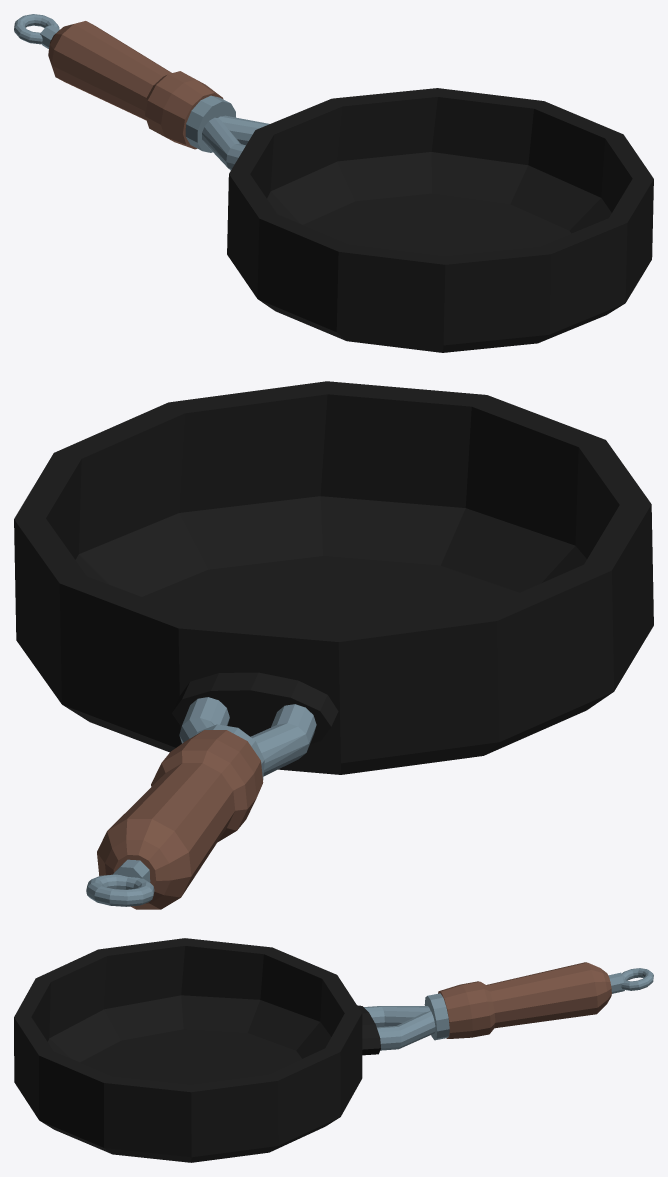
The model's file is panela.glb.
3 renders of one model, top to bottom at view 1: azimuth 30°, elevation 25°; view 2: azimuth 150°, elevation 25°; view 3: azimuth 270°, elevation 25°, orthographic. The views are drawn at different scales.
Visible parts, largest first — view 1: group1161334798; view 2: group1161334798; view 3: group1161334798.
Boxes of the visible parts, bbox=[...] form: group1161334798: bbox=[14, 14, 653, 352]; group1161334798: bbox=[14, 381, 653, 909]; group1161334798: bbox=[14, 938, 653, 1162].
Bounding box in the file's own units: 0.297 × 0.0804 × 0.5436.
